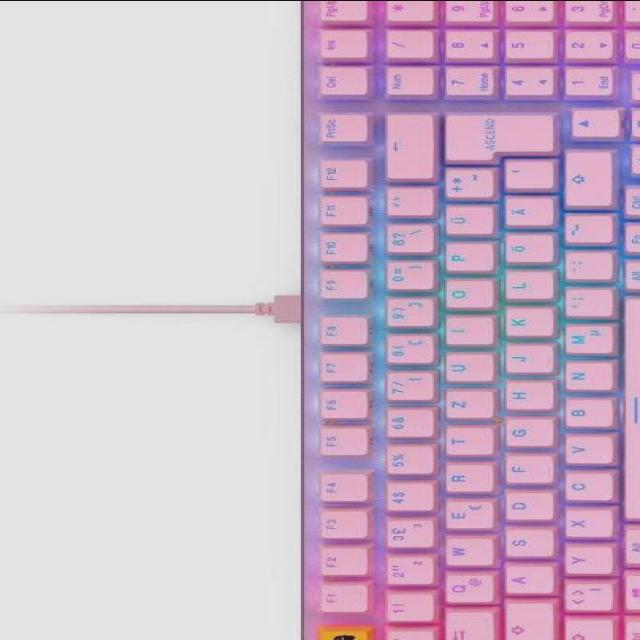0: (381, 261, 433, 292)
1: (381, 594, 431, 624)
2: (381, 556, 431, 587)
3: (381, 519, 431, 550)
4: (381, 483, 431, 513)
5: (381, 446, 431, 477)
6: (379, 408, 433, 440)
7: (381, 372, 433, 403)
8: (381, 334, 433, 367)
9: (381, 298, 433, 329)
a: (499, 566, 551, 596)
accent: (381, 189, 433, 220)
ae: (499, 198, 551, 229)
alt-left: (620, 529, 640, 568)
altgr-right: (620, 262, 640, 293)
b: (558, 399, 610, 430)
c: (560, 472, 610, 503)
caret: (381, 630, 431, 640)
comma: (560, 288, 610, 319)
d: (499, 492, 551, 522)
del: (381, 116, 430, 182)
e: (439, 501, 491, 531)
enter: (438, 115, 555, 165)
f: (500, 457, 550, 486)
g: (499, 420, 551, 449)
h: (499, 382, 551, 413)
hash: (497, 160, 553, 192)
i: (441, 317, 490, 346)
j: (499, 346, 551, 376)
k: (499, 308, 551, 340)
keyboard: (288, 0, 640, 640)
l: (501, 272, 551, 303)
less: (558, 583, 610, 615)
m: (560, 325, 612, 357)
minus: (560, 215, 610, 246)
n: (560, 362, 610, 393)
o: (441, 280, 491, 311)
oe: (501, 235, 551, 266)
p: (439, 243, 489, 274)
plus: (439, 169, 491, 202)
point: (560, 252, 610, 282)
q: (439, 574, 491, 606)
r: (441, 464, 491, 495)
s: (499, 529, 551, 559)
shift-left: (559, 620, 609, 640)
shift-lock: (499, 603, 551, 640)
shift-right: (560, 152, 610, 210)
space: (616, 298, 640, 524)
ss: (381, 224, 433, 256)
strg-left: (619, 620, 639, 640)
strg-right: (620, 187, 640, 219)
t: (439, 427, 489, 457)
tab: (441, 611, 490, 640)
u: (439, 353, 491, 384)
ue: (439, 207, 491, 238)
v: (560, 436, 610, 467)
w: (441, 538, 491, 568)
x: (560, 510, 610, 540)
y: (560, 547, 610, 577)
z: (439, 390, 489, 420)
